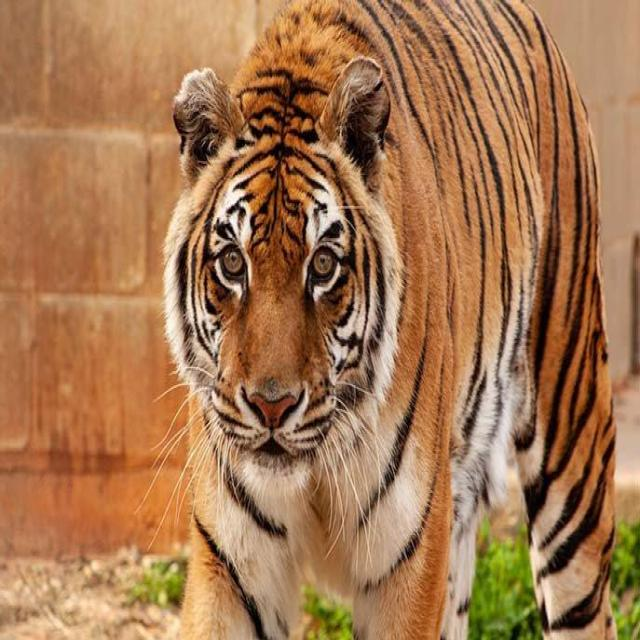Tiger: (141, 8, 622, 640)
